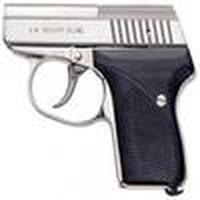gun: (3, 1, 192, 200)
